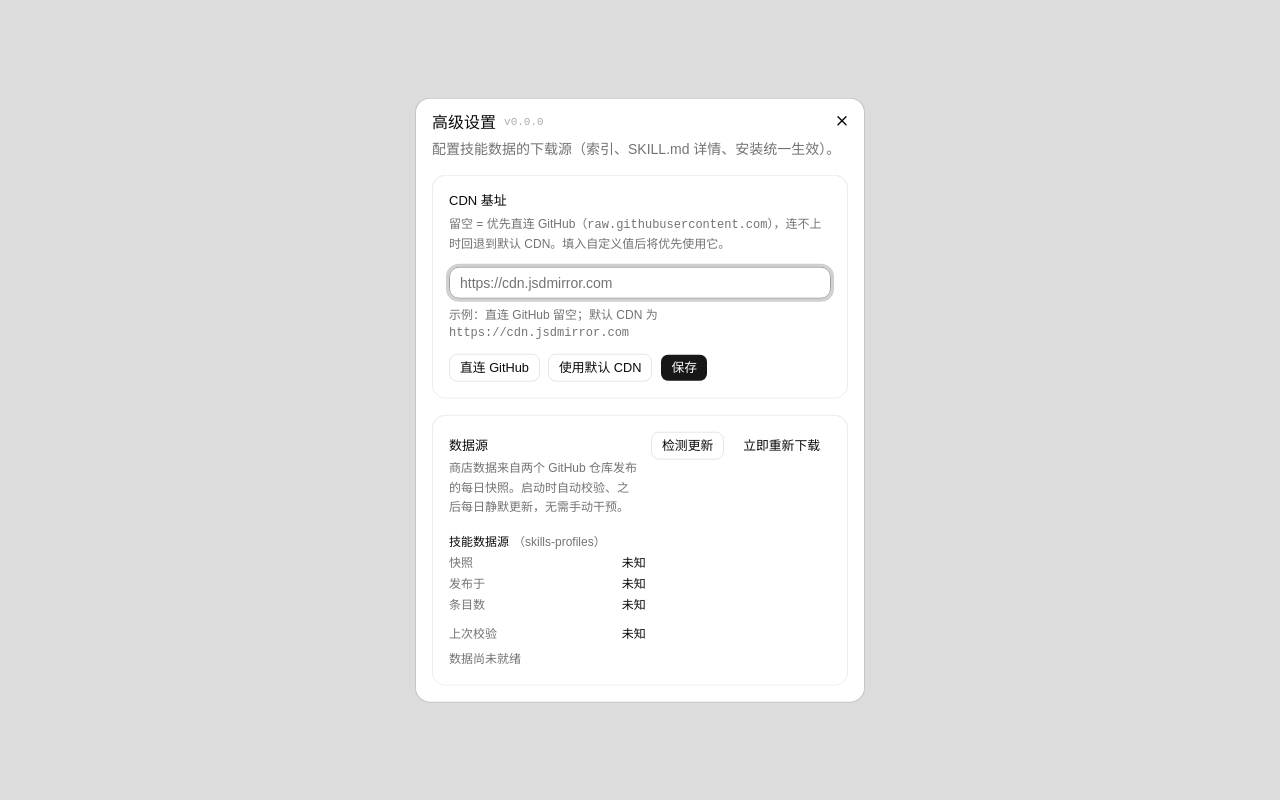
Test: AdvancedSettingsDialog › switches the download source to the default CDN and reloads
Step 1. Click the button "使用默认 CDN" → (600, 368), box x1=548 y1=354 x2=652 y2=382
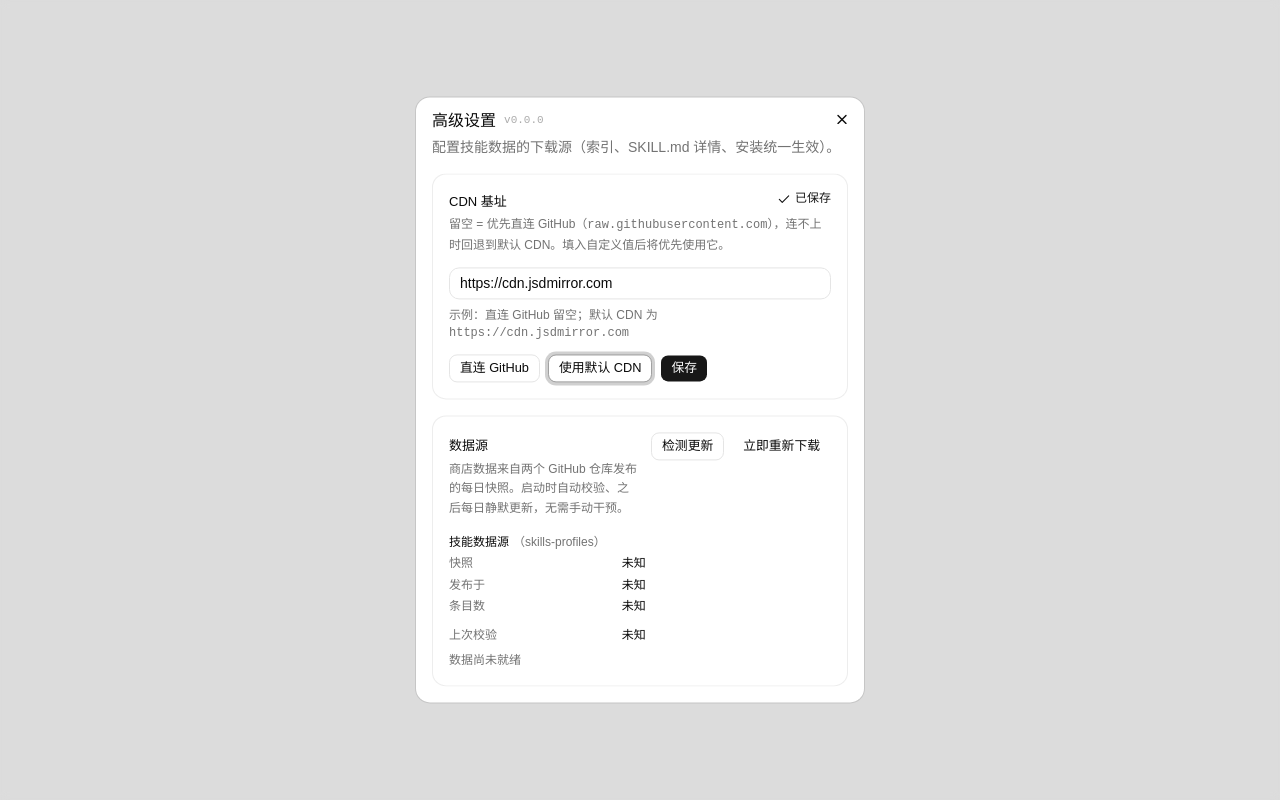
Expected: the text "https://cdn.jsdmirror.com" is shown, x1=449 y1=327 x2=629 y2=341
Now the text "已保存" is shown, box x1=777 y1=190 x2=831 y2=208
